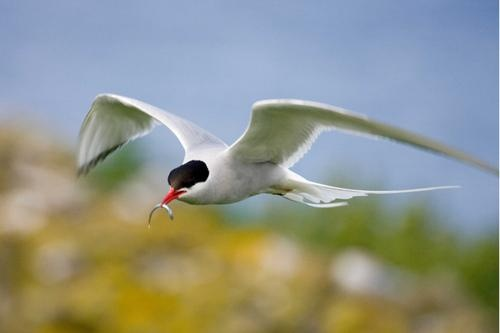bird: (62, 90, 500, 224)
